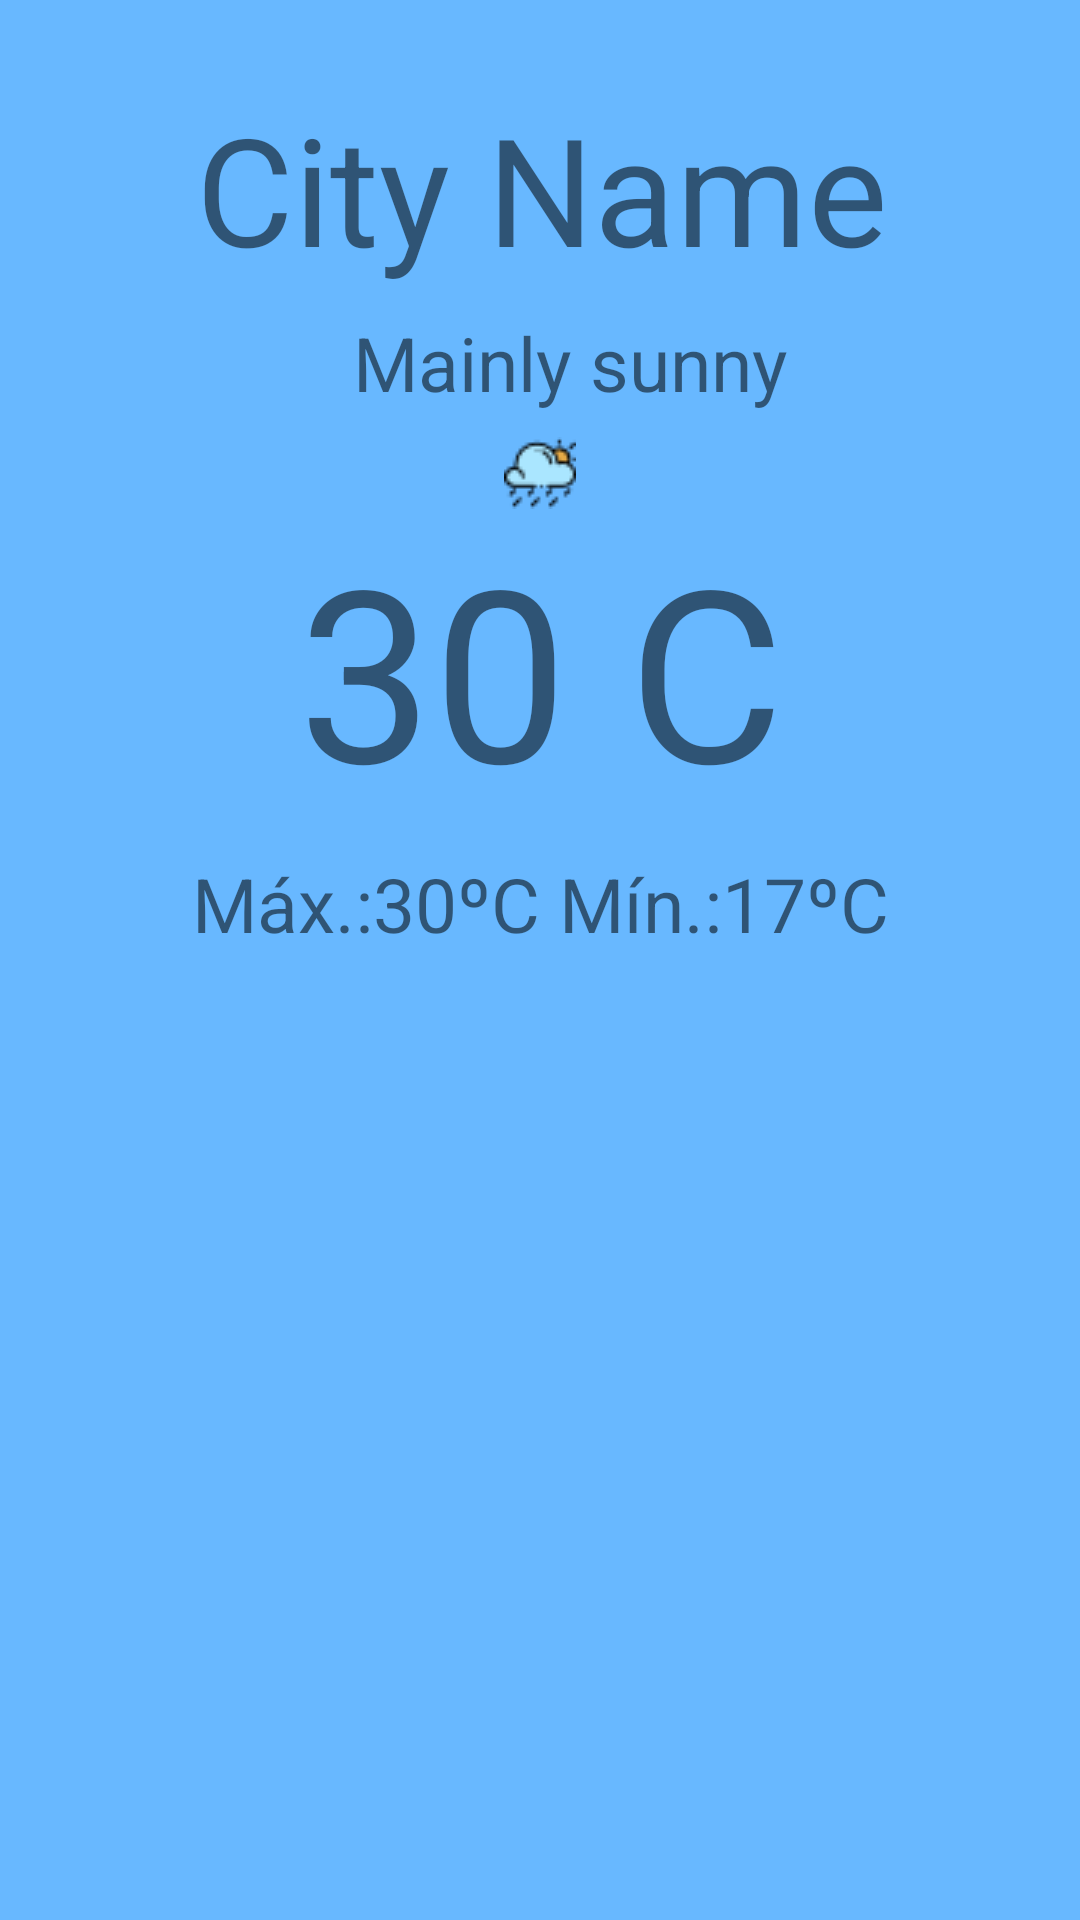

Icon bounding boxes for this 1080px x 1920px phone screenshot, format (x1, y1, x2, y2):
clima: (504, 439, 576, 509)
